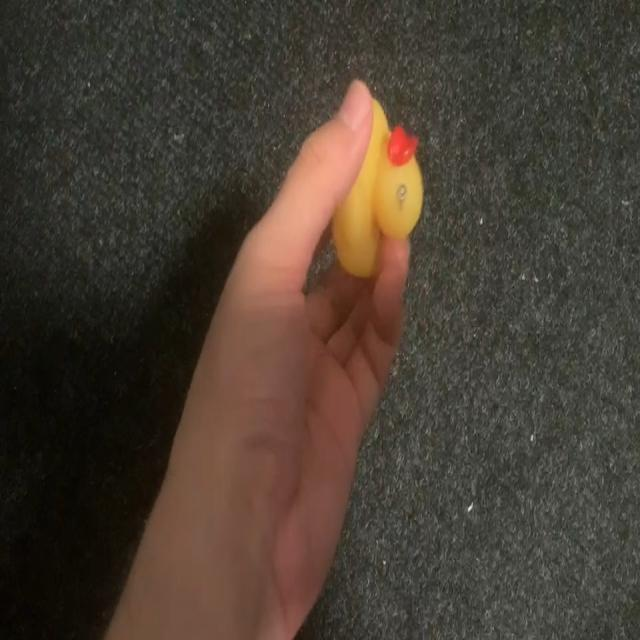rubber-duck: (332, 99, 421, 275)
